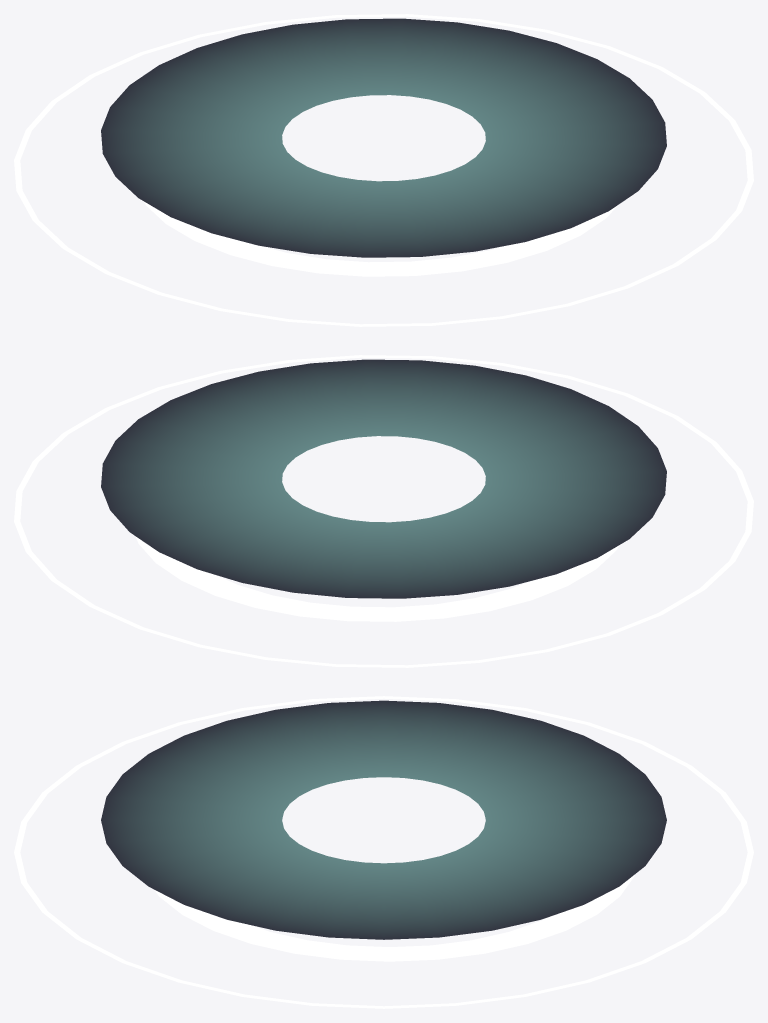
File: Icono3D_Base_a.fbx
3 renders of one model, top to bottom at view 1: azimuth 30°, elevation 25°; view 2: azimuth 150°, elevation 25°; view 3: azimuth 270°, elevation 25°, orthographic.
Visible parts, largest first — view 1: Cylinder.013, Cylinder.016, Cylinder.014; view 2: Cylinder.013, Cylinder.014, Cylinder.016; view 3: Cylinder.013, Cylinder.014, Cylinder.016.
Boxes of the visible parts, x1,y1,x2,y2 form: Cylinder.013: (101,18,666,257); Cylinder.016: (14,14,753,326); Cylinder.014: (144,201,617,276); Cylinder.013: (101,359,666,598); Cylinder.014: (136,537,618,621); Cylinder.016: (14,355,753,667); Cylinder.013: (101,700,666,939); Cylinder.014: (154,875,634,961); Cylinder.016: (14,696,753,1008).
Bounding box in the file's own units: 324 × 324 × 17.15.
